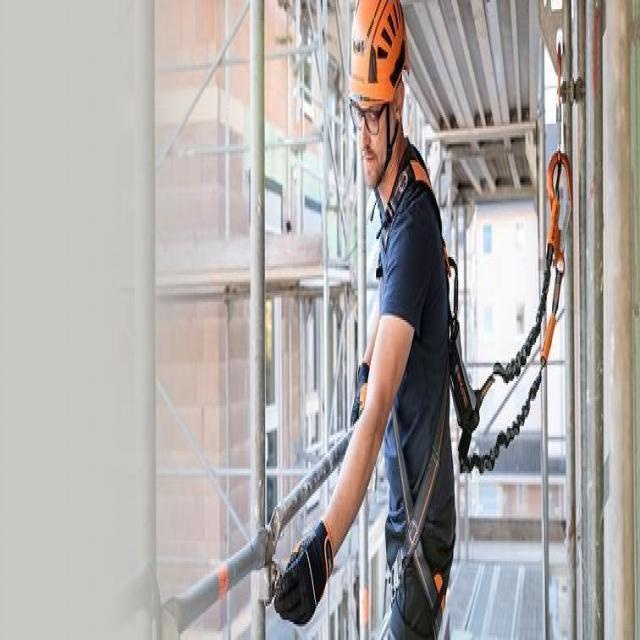Arnes_seguridad: (367, 158, 468, 640)
